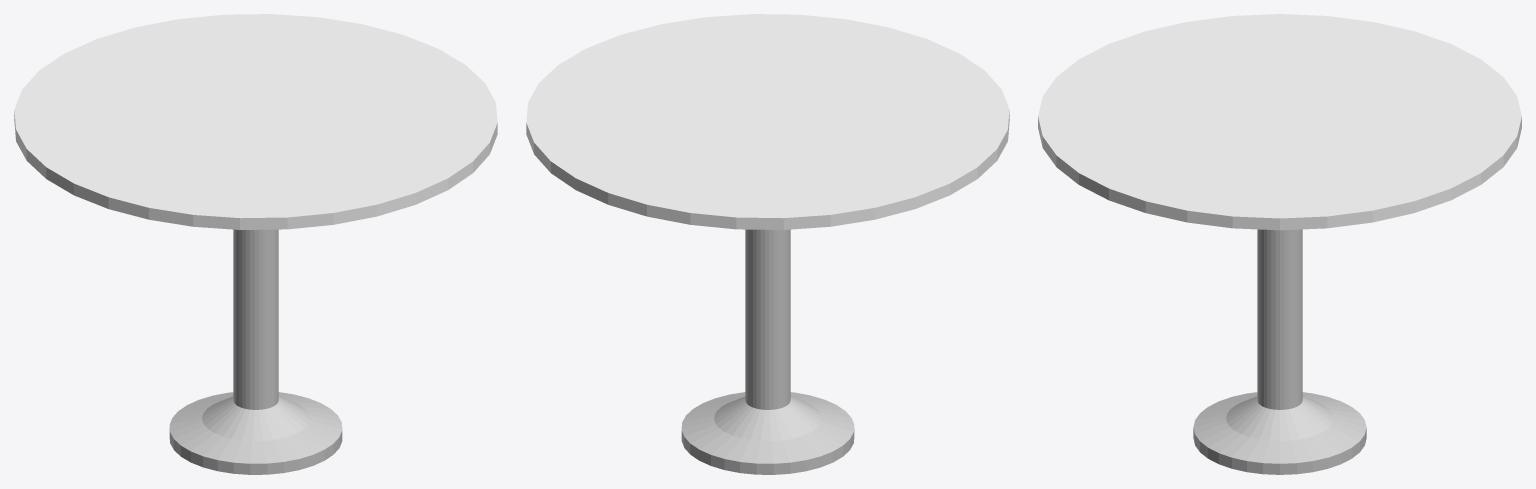
The model's file is roundtable.fbx.
The picture shows the model from 3 angles, left to right: view 1: azimuth 30°, elevation 25°; view 2: azimuth 150°, elevation 25°; view 3: azimuth 270°, elevation 25°; orthographic projection.
Visible parts, largest first — view 1: Table; view 2: Table; view 3: Table.
Boxes of the visible parts, x1,y1,x2,y2 form: Table: [14, 14, 497, 474]; Table: [526, 14, 1009, 474]; Table: [1038, 14, 1521, 474].
Bounding box in the file's own units: 83.23 × 61.15 × 83.23.
1 material, 1 textured.
